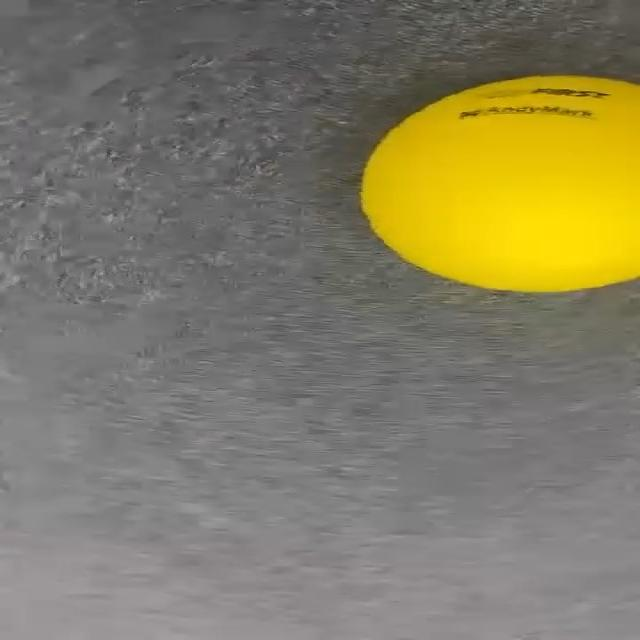Fuels: (361, 73, 640, 294)
